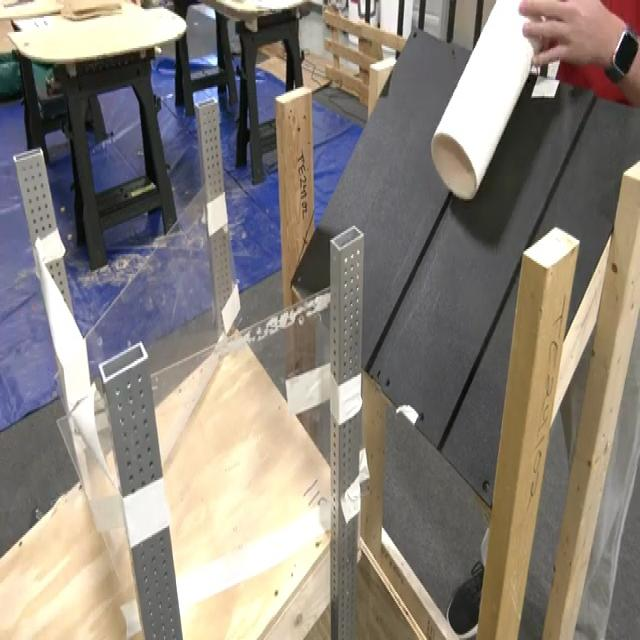Coral: (429, 0, 544, 201)
